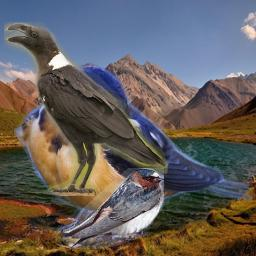Crow: (4, 22, 168, 196)
Swallow: (14, 63, 253, 247), (63, 168, 164, 249)
